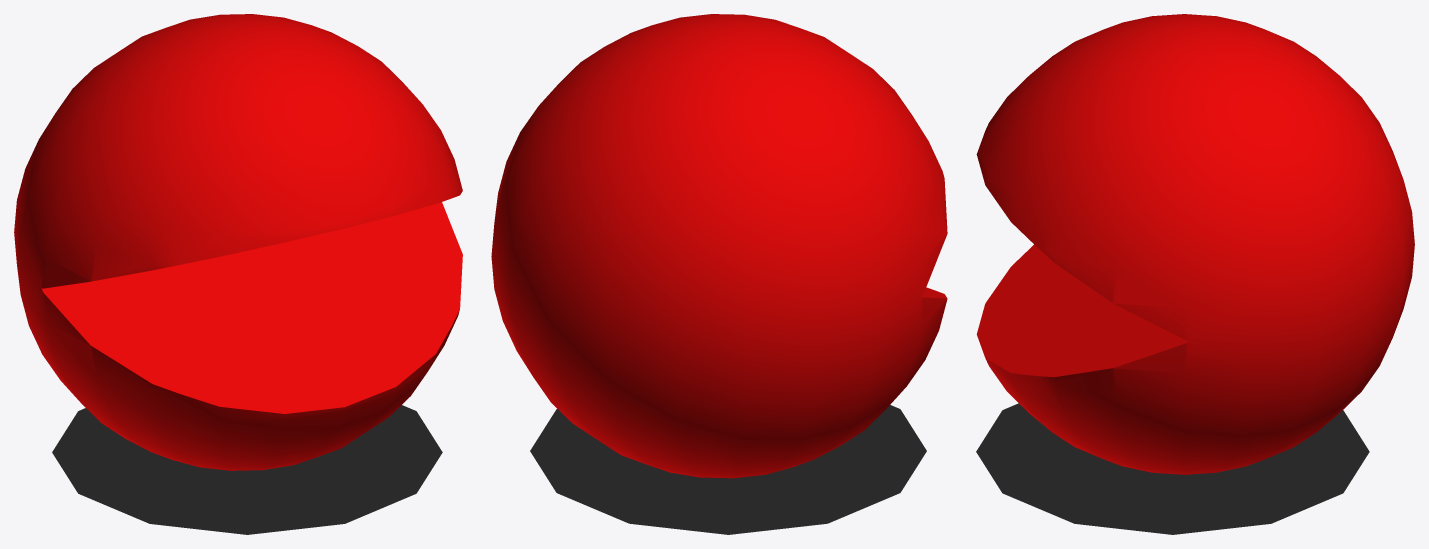
The model's file is akabei.fbx.
The picture shows the model from 3 angles, left to right: view 1: azimuth 30°, elevation 25°; view 2: azimuth 150°, elevation 25°; view 3: azimuth 270°, elevation 25°; orthographic projection.
Visible parts, largest first — view 1: pSphere2, pCylinder1; view 2: pSphere2, pCylinder1; view 3: pSphere2, pCylinder1.
Boxes of the visible parts, left/top/right/bottom form: pSphere2: left=14, top=14, right=462, bottom=470; pCylinder1: left=52, top=405, right=442, bottom=534; pSphere2: left=491, top=14, right=947, bottom=478; pCylinder1: left=530, top=405, right=926, bottom=534; pSphere2: left=976, top=14, right=1414, bottom=474; pCylinder1: left=976, top=403, right=1369, bottom=534.
Bounding box in the file's own units: 0.5995 × 0.6 × 0.571.
